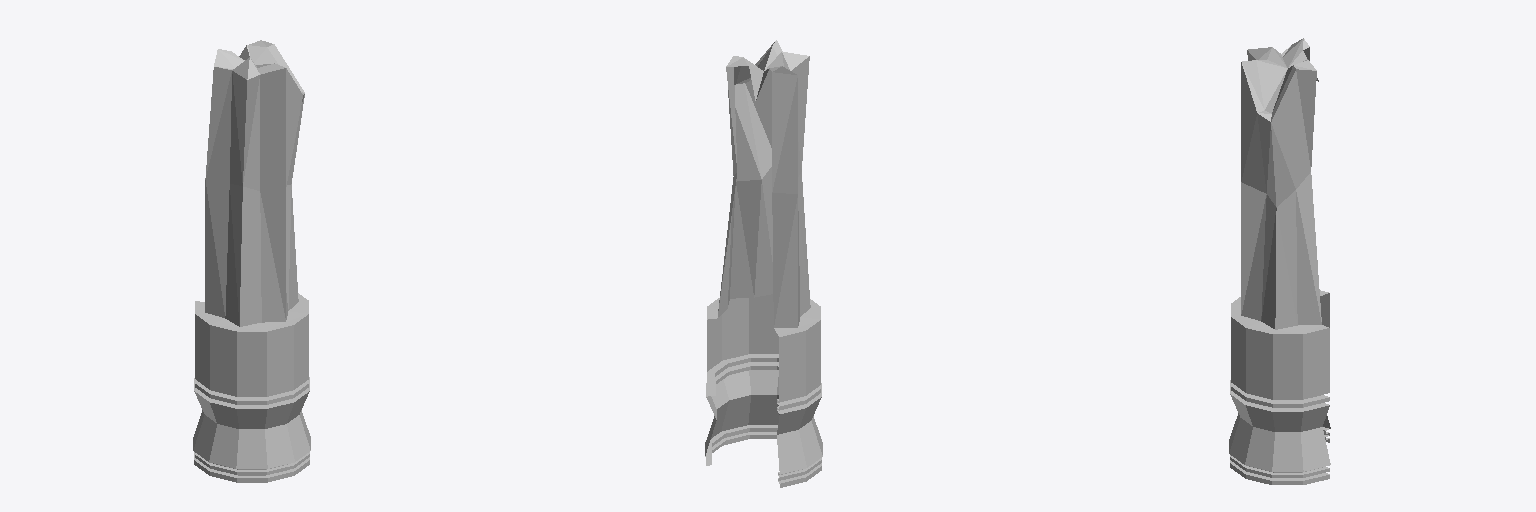
File: pilierCasse3.obj
The picture shows the model from 3 angles: view 1: azimuth 30°, elevation 25°; view 2: azimuth 150°, elevation 25°; view 3: azimuth 270°, elevation 25°; orthographic projection.
Bounding box in the file's own units: 0.2851 × 1.1 × 0.2469.